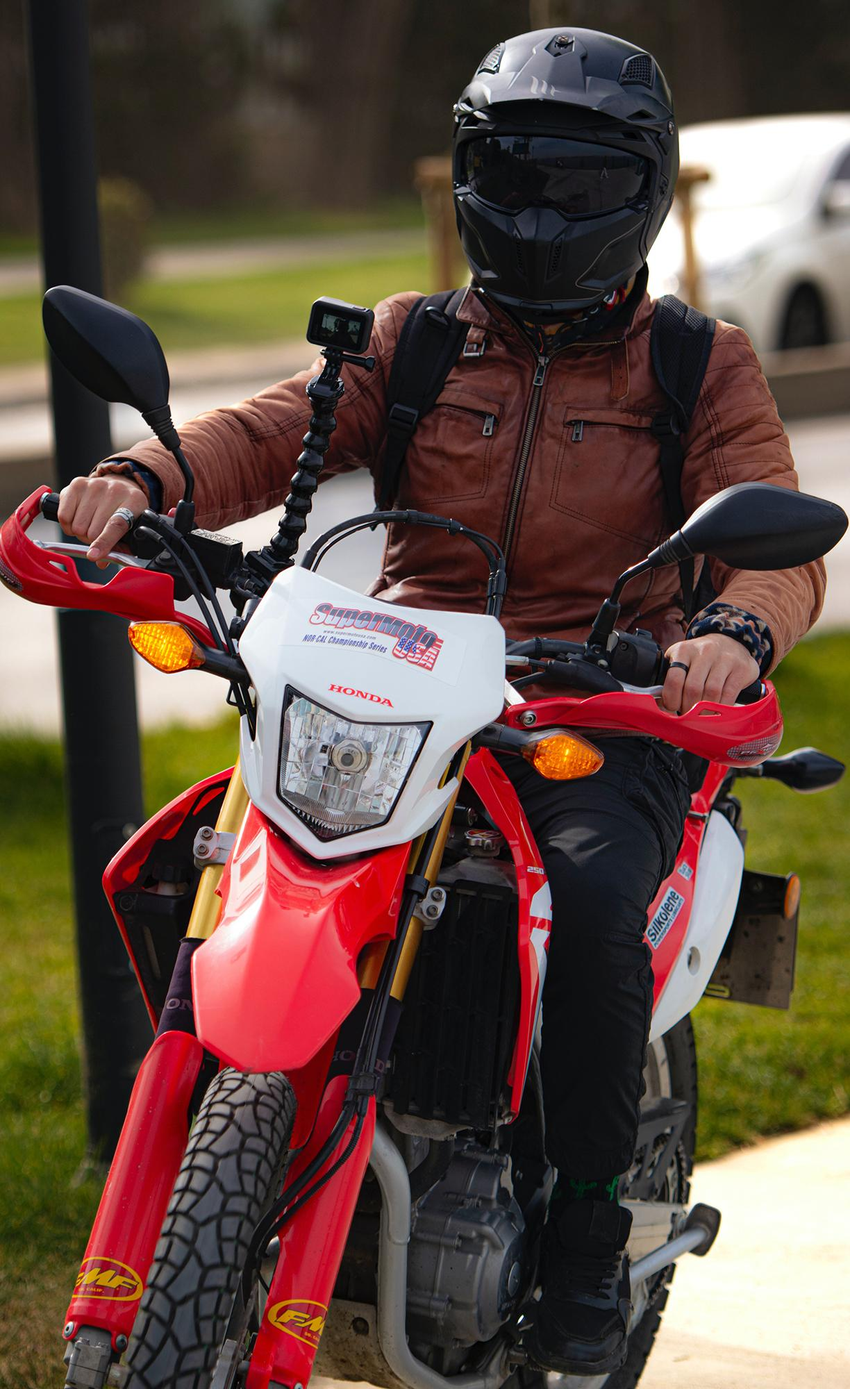helmet: (449, 24, 681, 320)
